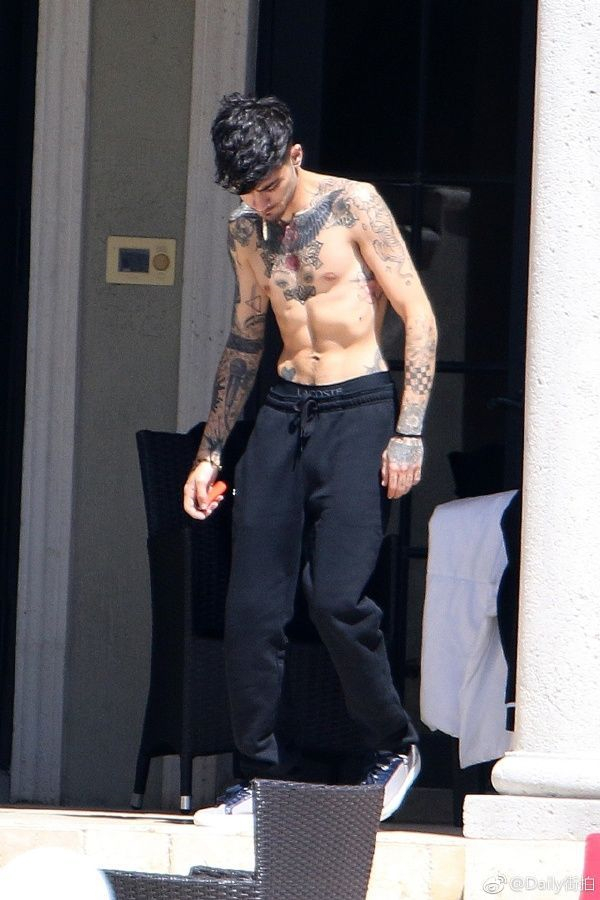smoke: (258, 215, 272, 242)
